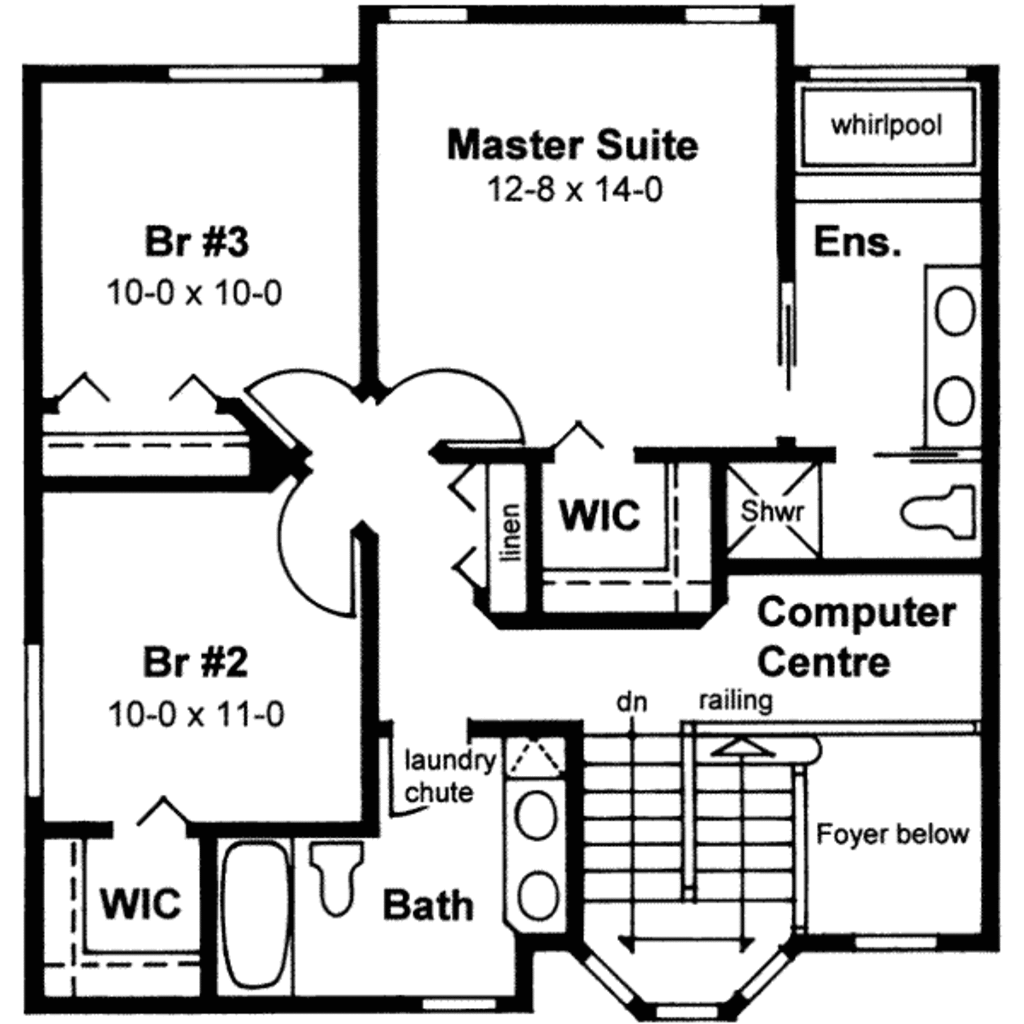door: (386, 352, 530, 455), (266, 469, 366, 616), (238, 350, 369, 458)
large_sink: (889, 472, 978, 549), (302, 835, 359, 921)
small_sink: (925, 258, 989, 446), (498, 778, 566, 930)
stairs: (570, 717, 823, 958)
tub: (220, 836, 297, 991)
window: (17, 641, 53, 805), (159, 57, 319, 86), (381, 2, 473, 28), (680, 3, 775, 25)
